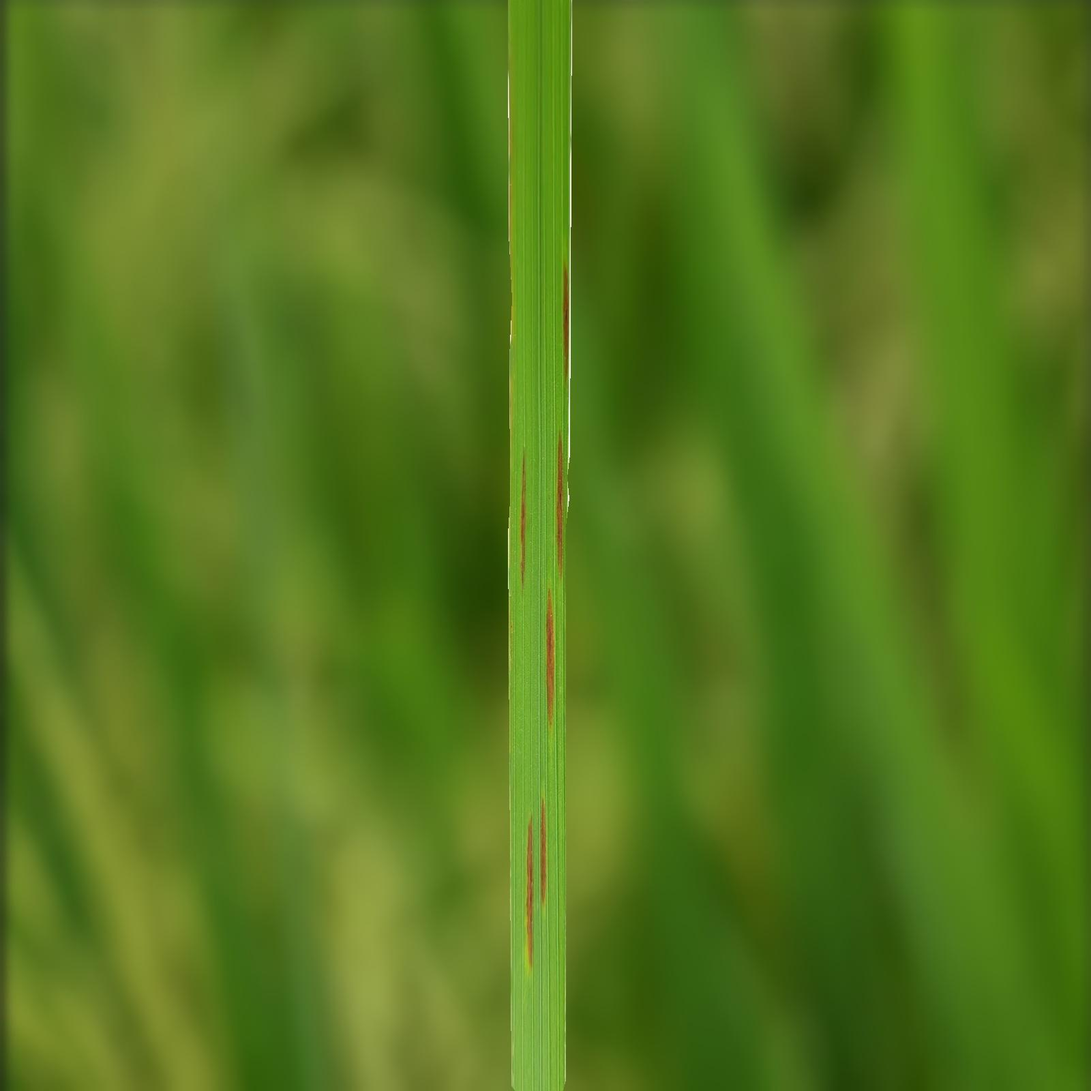LEAF: (508, 0, 571, 1090)
NBS: (526, 822, 535, 968), (556, 436, 564, 571), (546, 593, 554, 727), (563, 267, 569, 379), (520, 451, 525, 580), (541, 798, 546, 906)
